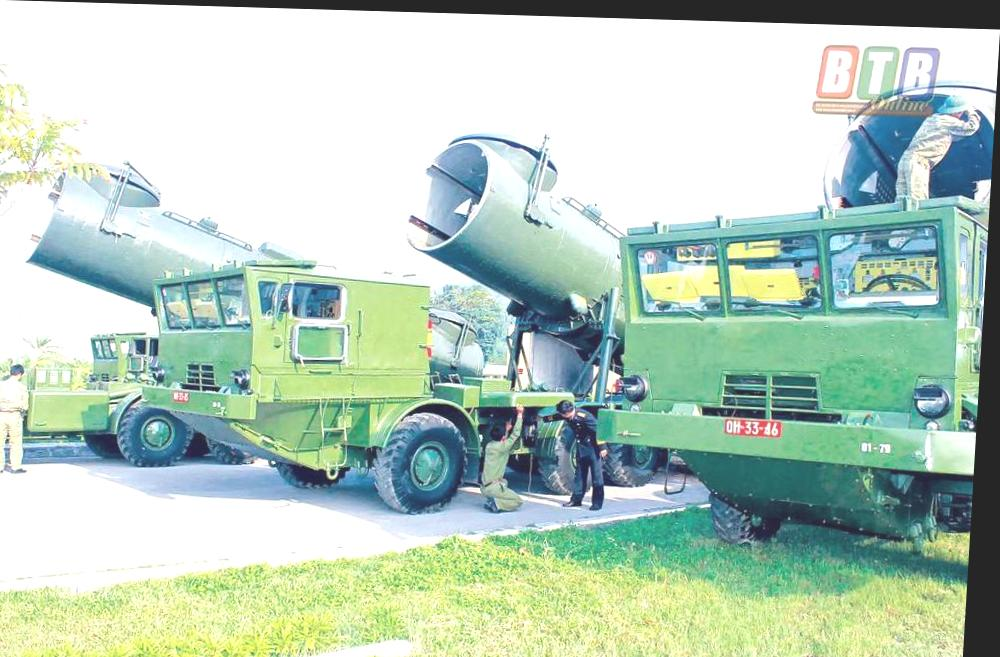License_Plate: (724, 415, 783, 438), (170, 388, 193, 404)
